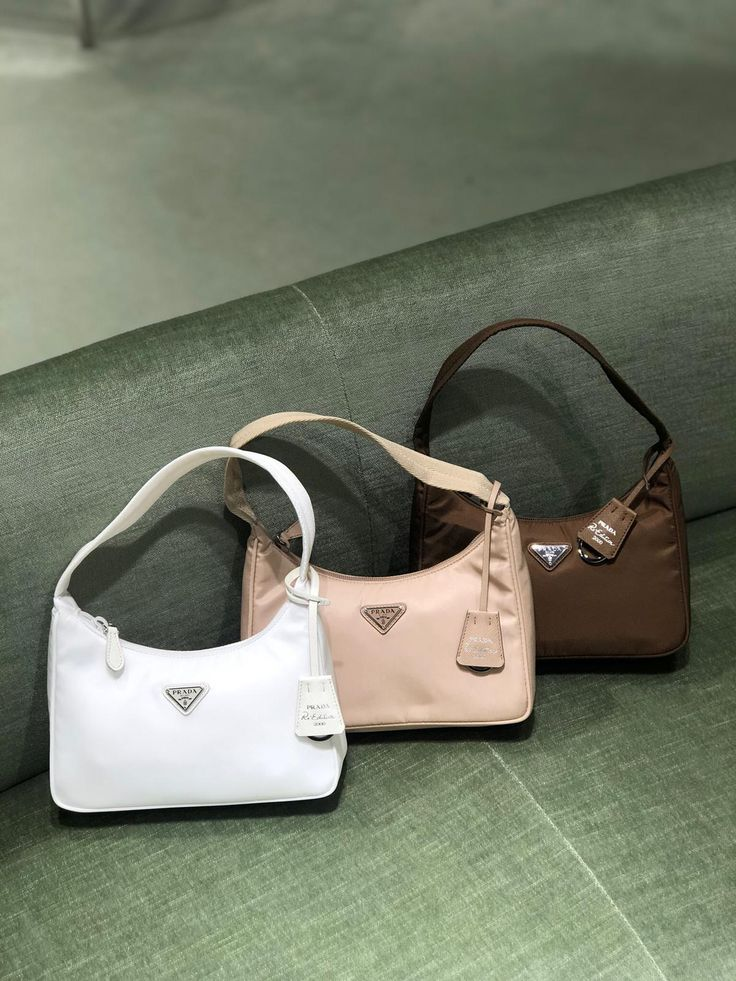nylon: (45, 322, 694, 812)
